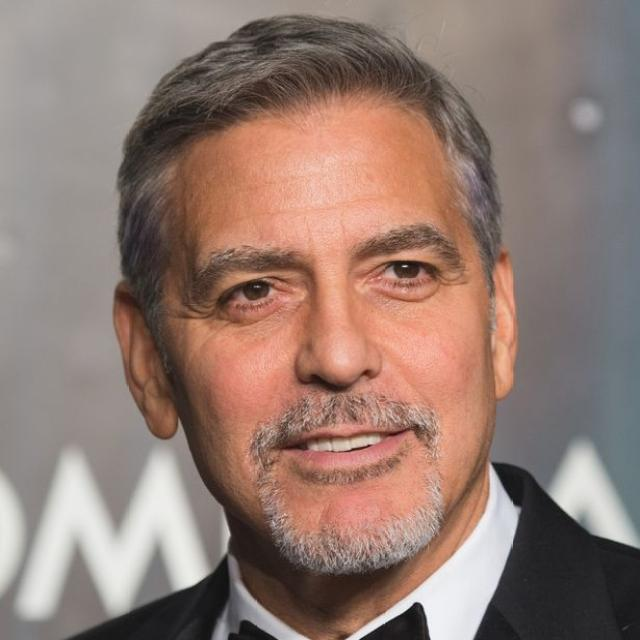human: (100, 10, 640, 640)
